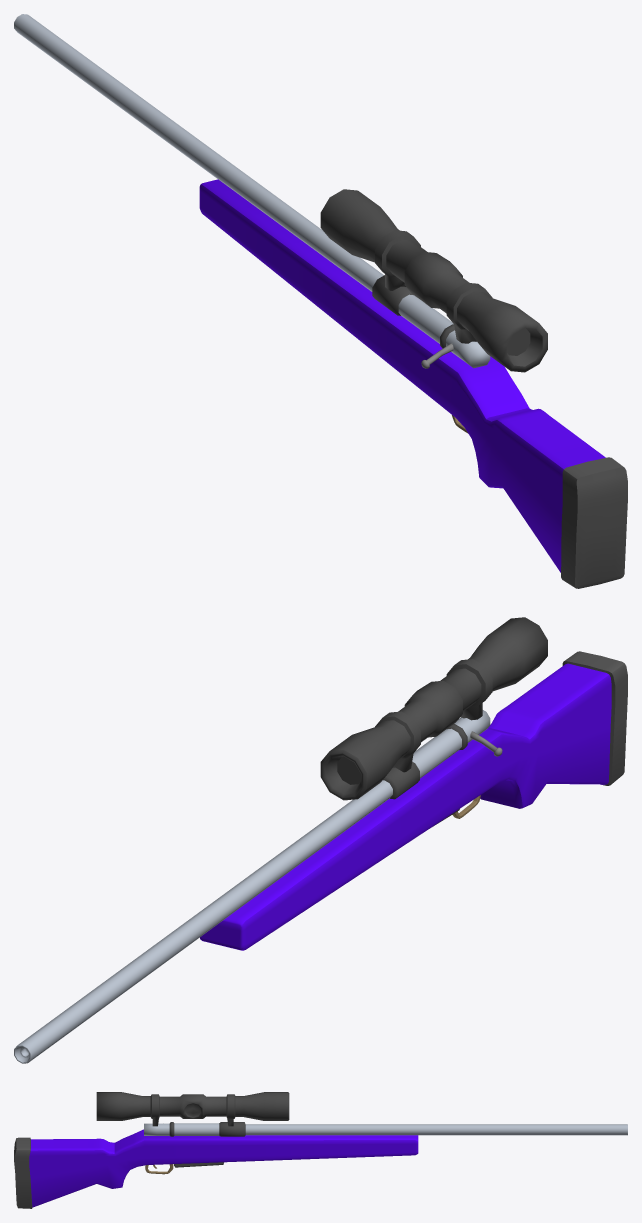
File: sniper.fbx
The picture shows the model from 3 angles, top to bottom: view 1: azimuth 30°, elevation 25°; view 2: azimuth 150°, elevation 25°; view 3: azimuth 270°, elevation 25°; orthographic projection. The views are drawn at different scales.
Parts seen in each view (by area): view 1: SniperBase.Rood, SniperScope.rood; view 2: SniperBase.Rood, SniperScope.rood; view 3: SniperBase.Rood, SniperScope.rood.
Boxes of the visible parts, box(x1,y1,x2,y2) form: SniperBase.Rood: box(199, 179, 627, 588); SniperScope.rood: box(14, 14, 547, 372); SniperBase.Rood: box(200, 651, 627, 950); SniperScope.rood: box(14, 617, 547, 1063); SniperBase.Rood: box(14, 1129, 418, 1208); SniperScope.rood: box(96, 1092, 627, 1136).
Size of the model in its own units: 7.88 by 23.85 by 120.
